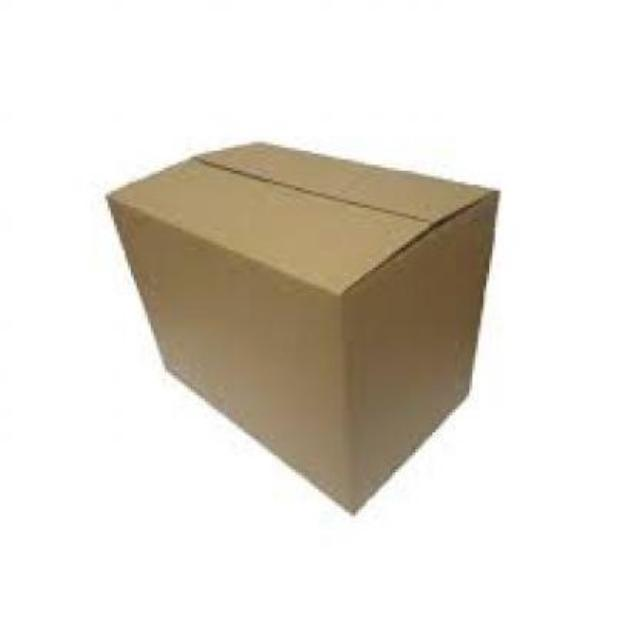cardboard_box: (109, 137, 495, 518)
